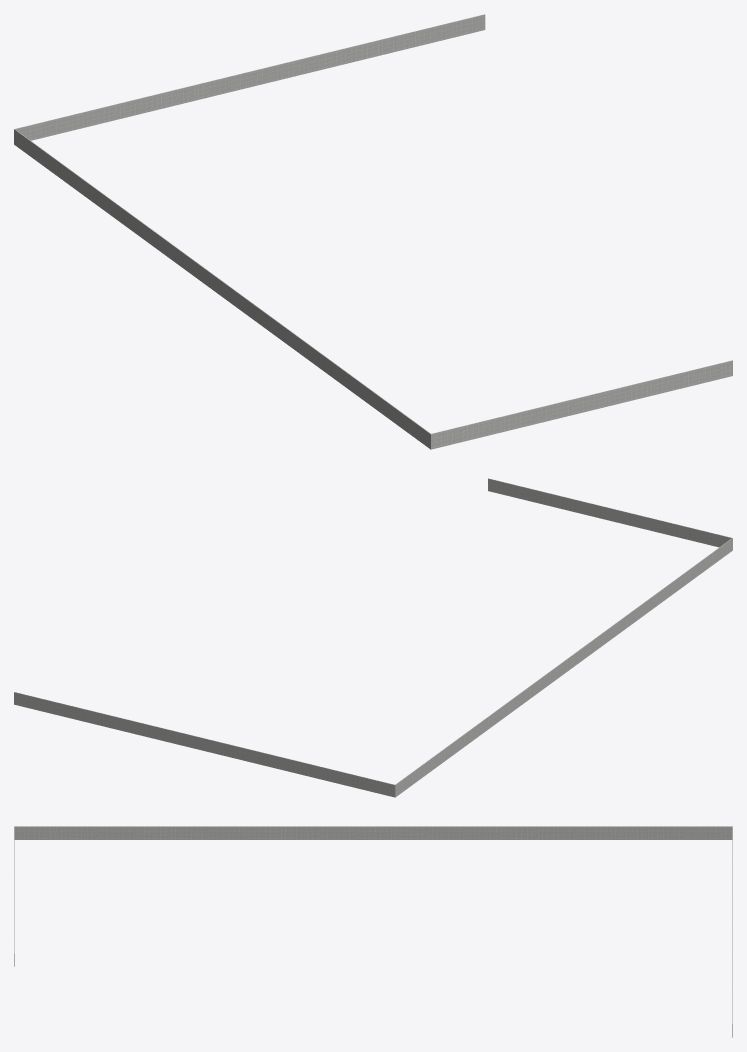
Rendered from BP_Artezen_IdealGrayHerringbone.glb.
3 renders of one model, top to bottom at view 1: azimuth 30°, elevation 25°; view 2: azimuth 150°, elevation 25°; view 3: azimuth 270°, elevation 25°, orthographic. The views are drawn at different scales.
Visible parts, largest first — view 1: BP_Artezen Ideal Gray Herringbone; view 2: BP_Artezen Ideal Gray Herringbone; view 3: BP_Artezen Ideal Gray Herringbone.
Part boxes in pixels (x1=…): BP_Artezen Ideal Gray Herringbone: x1=14, y1=14, x2=732, y2=449; BP_Artezen Ideal Gray Herringbone: x1=14, y1=478, x2=732, y2=797; BP_Artezen Ideal Gray Herringbone: x1=14, y1=826, x2=732, y2=1037.
Size of the model in its own units: 6.39 by 0.2 by 9.8.
Materials: 1 (1 with a texture image).
